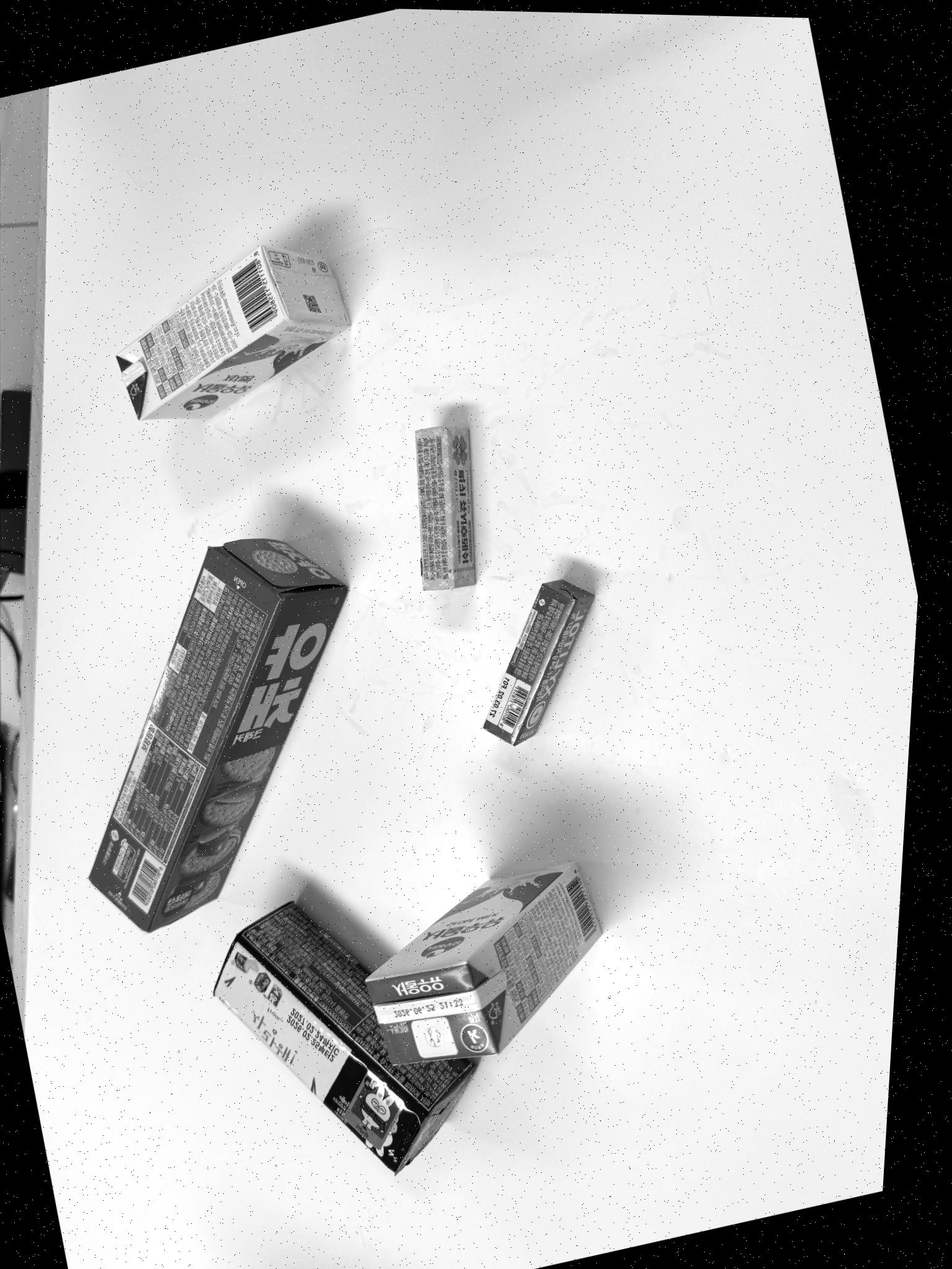cracker_ace: (216, 898, 478, 1174)
cracker_vege: (86, 536, 343, 935)
gum_green: (484, 577, 596, 748)
gum_yellow: (419, 424, 477, 593)
milk_blue: (115, 244, 347, 422)
milk_green: (364, 863, 603, 1071)
